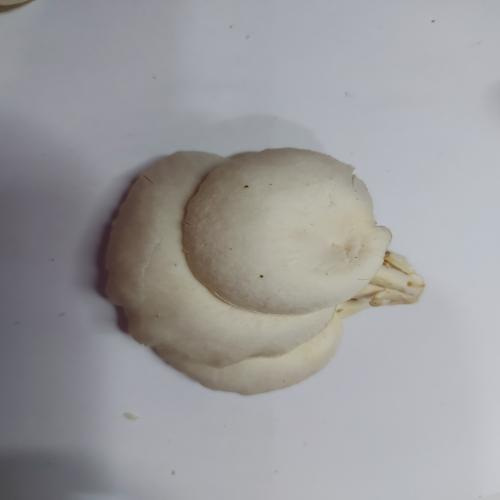Oyster Mushroom: (102, 146, 425, 395)
